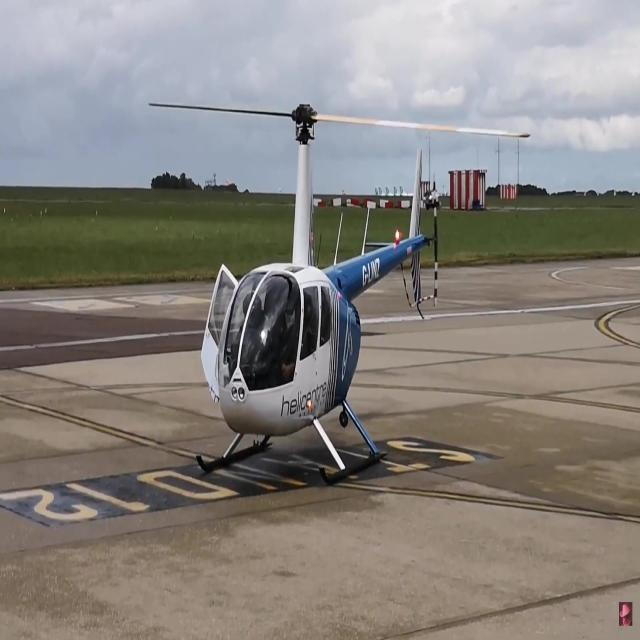CIV_HELO: (195, 100, 442, 490)
